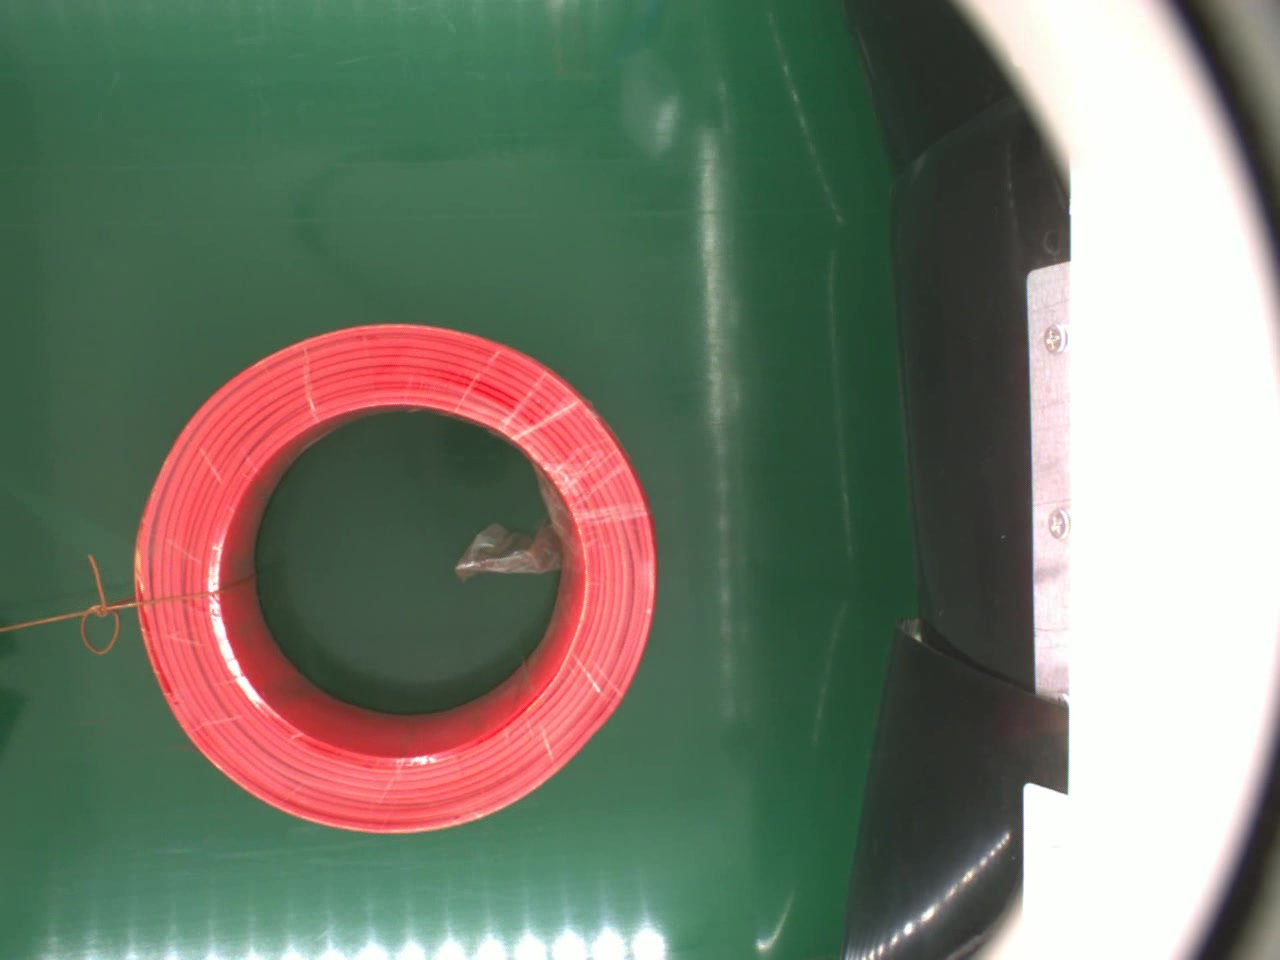red: (128, 318, 656, 841)
